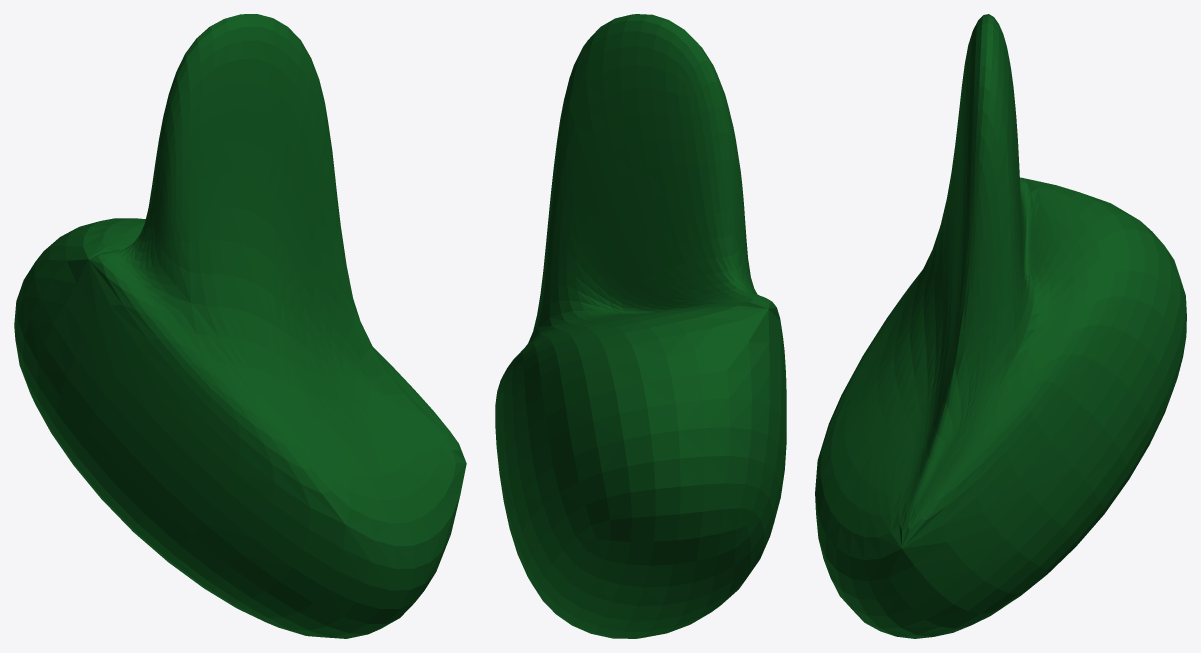
The picture shows the model from 3 angles, left to right: view 1: azimuth 30°, elevation 25°; view 2: azimuth 150°, elevation 25°; view 3: azimuth 270°, elevation 25°; orthographic projection. The views are drawn at different scales.
Parts seen in each view (by area): view 1: 887_Cube.3583; view 2: 887_Cube.3583; view 3: 887_Cube.3583.
Part boxes in pixels (x1,y1,x2,y2): 887_Cube.3583: (14, 14, 466, 638); 887_Cube.3583: (495, 14, 786, 638); 887_Cube.3583: (815, 14, 1186, 638).
Bounding box in the file's own units: 8.08 × 13.92 × 8.07.
